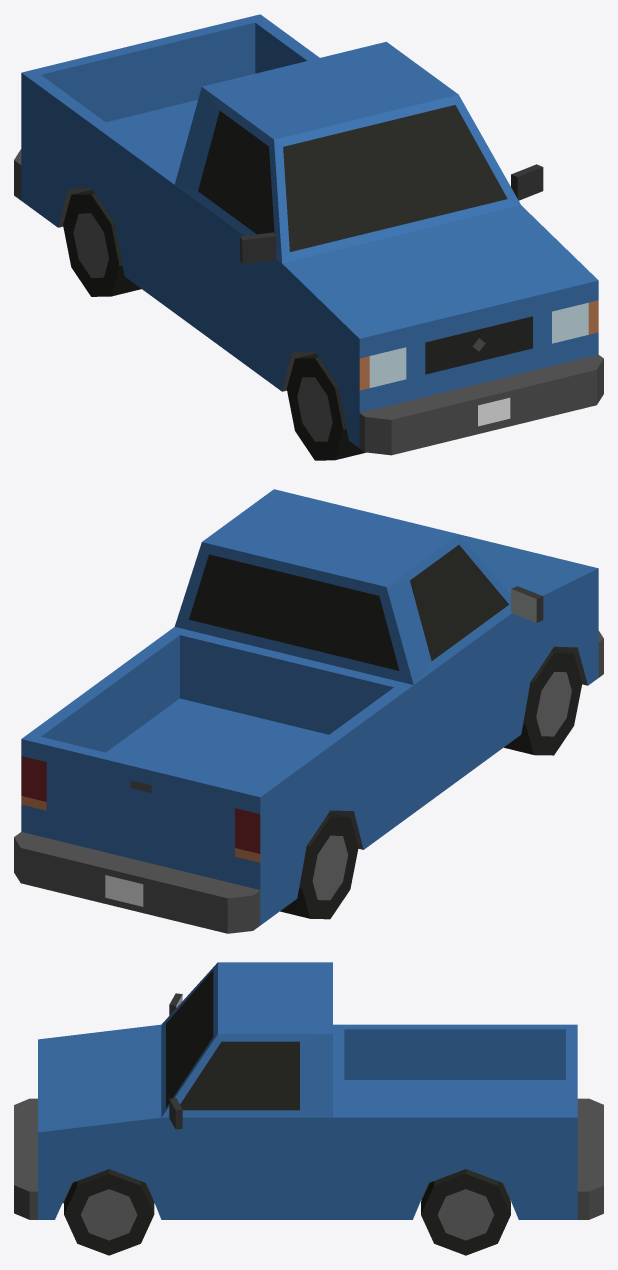
File: Veh_Pickup_01_Blue.obj
The picture shows the model from 3 angles, top to bottom: view 1: azimuth 30°, elevation 25°; view 2: azimuth 150°, elevation 25°; view 3: azimuth 270°, elevation 25°; orthographic projection. The views are drawn at different scales.
Size of the model in its own units: 1.34 by 1.12 by 2.85.
